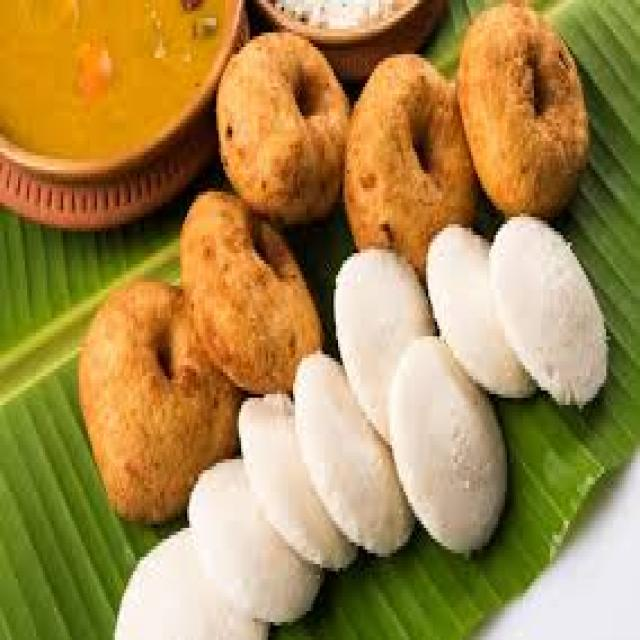IDLI: (390, 336, 505, 550), (293, 362, 412, 550), (491, 217, 604, 405), (189, 459, 320, 618), (241, 394, 354, 568), (334, 249, 433, 438), (428, 224, 534, 394), (115, 528, 266, 636)
MEDU VADA: (79, 278, 239, 513), (343, 58, 475, 271), (183, 188, 320, 391), (460, 0, 588, 213), (219, 33, 349, 221)
